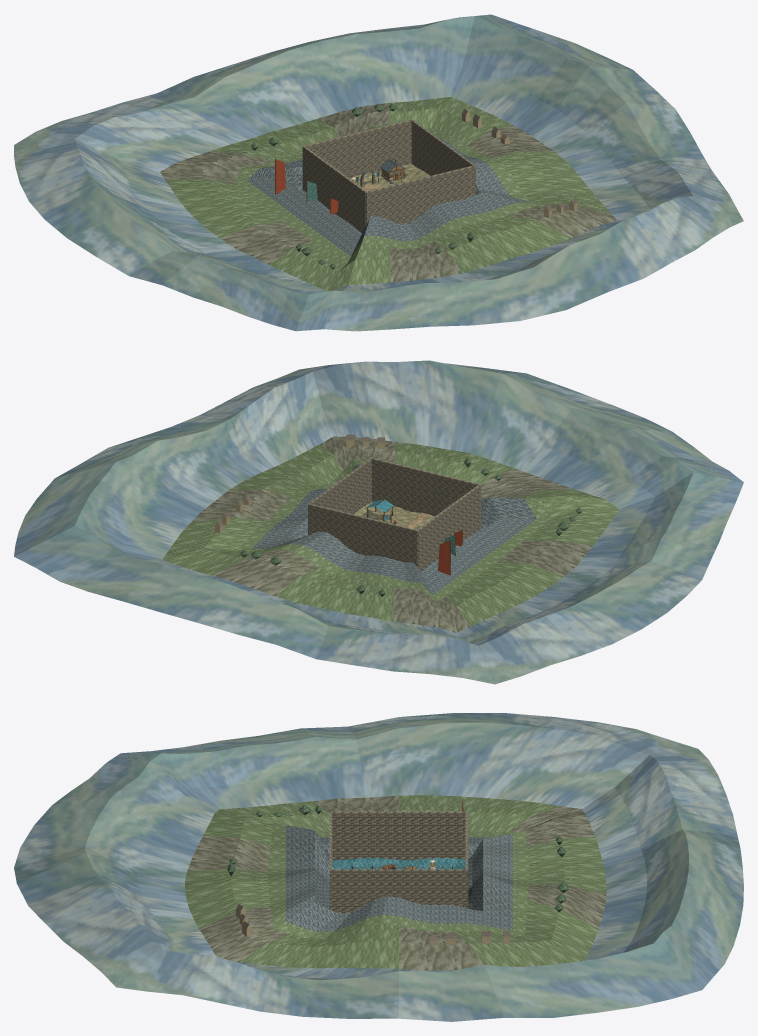
The model's file is Saltwake.fbx.
3 views of the same model, one above another, from view 1: azimuth 30°, elevation 25°; view 2: azimuth 150°, elevation 25°; view 3: azimuth 270°, elevation 25° (orthographic). The views are drawn at different scales.
Visible parts, largest first — view 1: Surroundings, C_Solids, Rim, Terrain, Set; view 2: Surroundings, C_Solids, Rim, Terrain; view 3: Surroundings, C_Solids, Rim, Terrain.
Part boxes in pixels (left/top/right/bottom): Surroundings: left=14, top=14, right=743, bottom=331; C_Solids: left=302, top=119, right=475, bottom=232; Rim: left=247, top=138, right=531, bottom=256; Terrain: left=349, top=164, right=430, bottom=191; Set: left=275, top=158, right=416, bottom=212; Surroundings: left=14, top=360, right=743, bottom=684; C_Solids: left=308, top=458, right=481, bottom=571; Rim: left=252, top=464, right=536, bottom=594; Terrain: left=354, top=502, right=434, bottom=529; Surroundings: left=14, top=713, right=743, bottom=1021; C_Solids: left=329, top=811, right=468, bottom=913; Rim: left=285, top=801, right=512, bottom=931; Terrain: left=332, top=857, right=465, bottom=869.
Bounding box in the file's own units: 22201 × 2183 × 21876.
